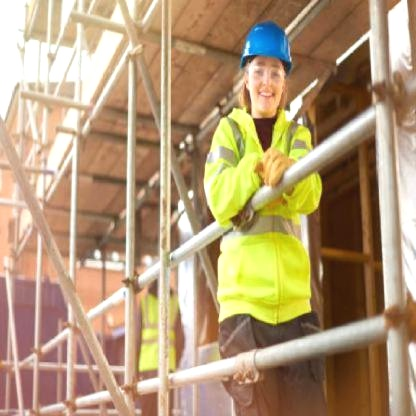blue: (234, 18, 302, 78)
vest: (204, 115, 328, 329)
